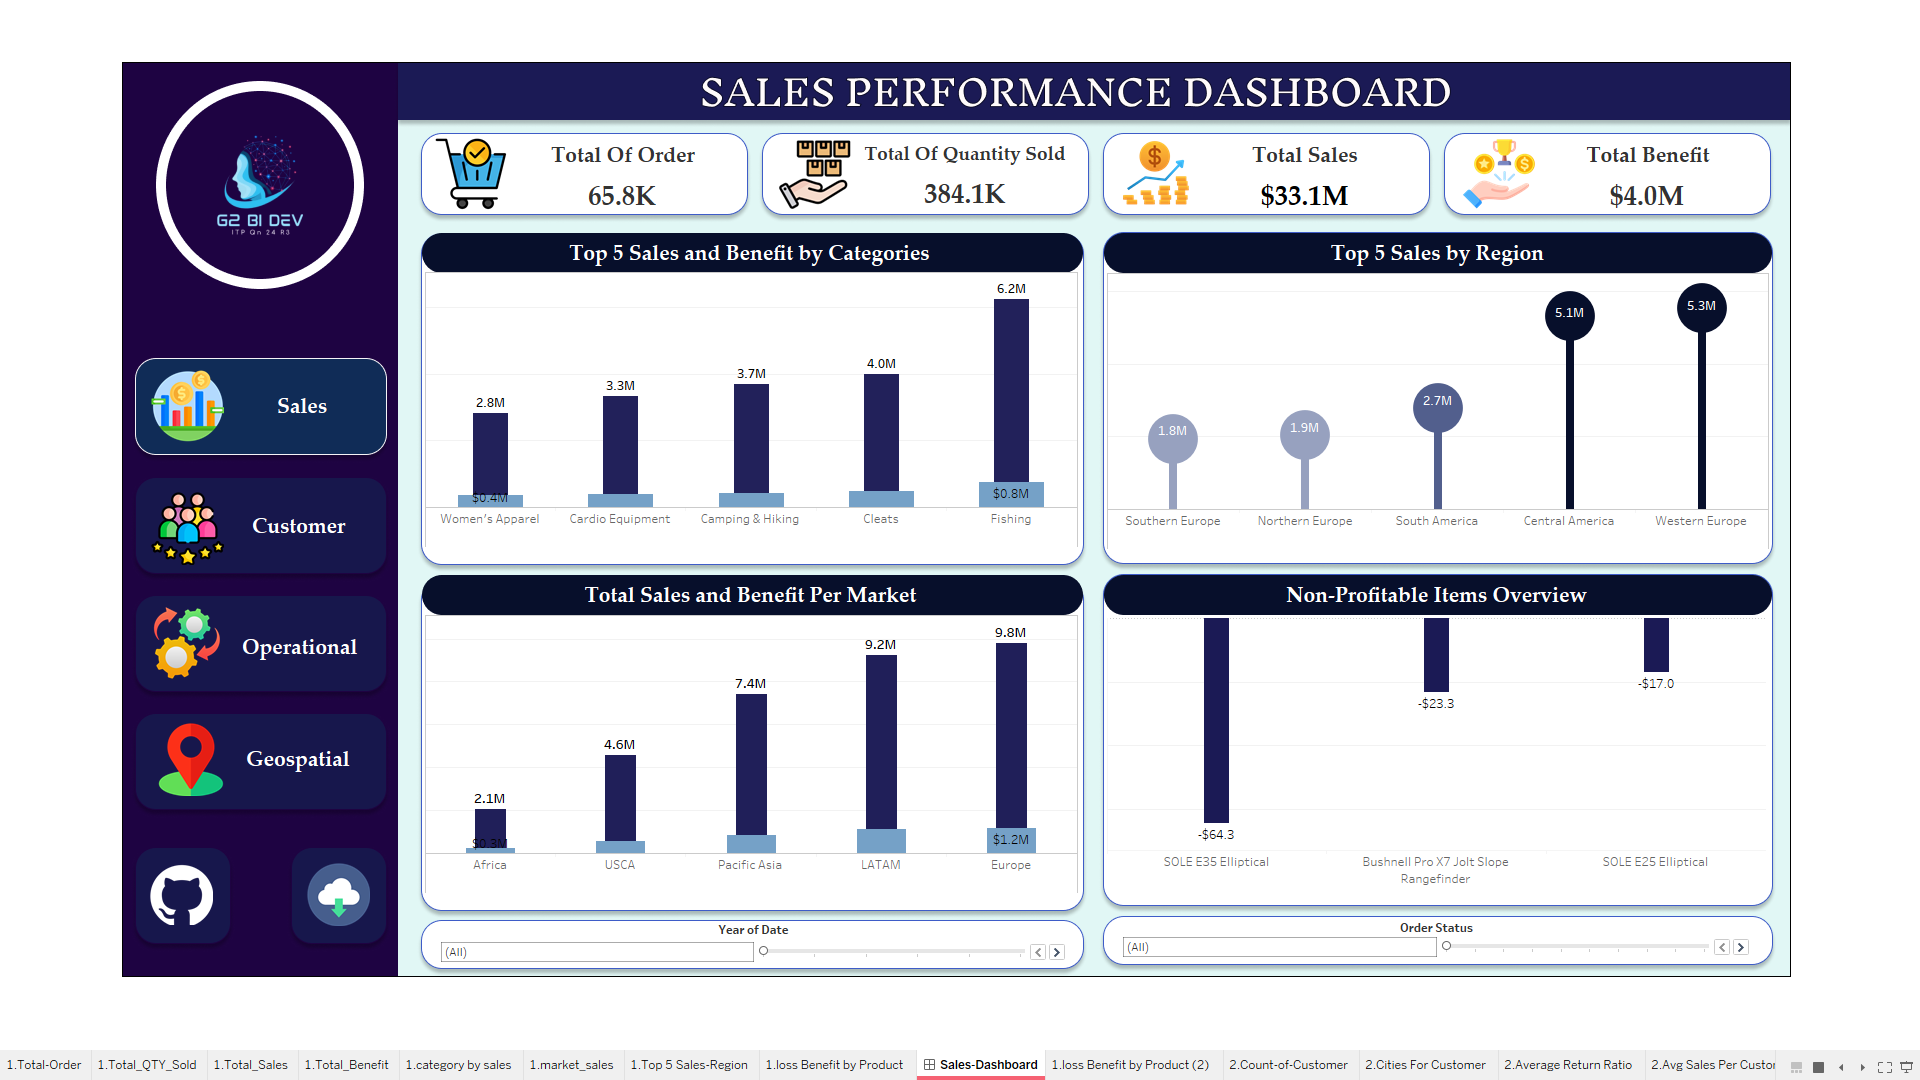

The page's visual inventory and layout, read from the dashboard file:
{"tool":"tableau","page":{"name":"Sales-Dashboard","canvas":[1700,950],"ordinal":4},"visuals":[{"type":"image","param":"C:/Users/mahmo/OneDrive/Desktop/Sales/background/New folder (2)/Sales.png","box":[8,8,1684,934]},{"type":"image","param":"C:/Users/mahmo/OneDrive/Desktop/Sales-project/ICONS/total_order.png","box":[321,86,80,75]},{"type":"worksheet","title":"1.Total-Order","mark":"Automatic","box":[408,86,210,75]},{"type":"worksheet","title":"1.Total_QTY_Sold","mark":"Automatic","box":[750,86,210,75]},{"type":"image","param":"C:/Users/mahmo/OneDrive/Desktop/Sales-project/ICONS/total_sales.png","box":[1006,86,80,75]},{"type":"worksheet","title":"1.Total_Sales","mark":"Automatic","box":[1090,86,210,75]},{"type":"image","param":"C:/Users/mahmo/OneDrive/Desktop/Sales-project/ICONS/total_benefit.png","box":[1349,86,80,75]},{"type":"worksheet","title":"1.Total_Benefit","mark":"Automatic","box":[1433,86,210,75]},{"type":"image","param":"C:/Users/mahmo/OneDrive/Desktop/Sales-project/ICONS/total_QTY.png","box":[665,88,80,73]},{"type":"text","box":[1015,183,625,38]},{"type":"text","box":[325,184,629,36]},{"type":"worksheet","title":"1.category by sales","mark":"Automatic","rows":["Total_Sales","BenifitPerOrder"],"cols":["Category_Name"],"box":[315,222,653,276]},{"type":"worksheet","title":"1.Top 5 Sales-Region","mark":"Automatic","rows":["Total_Sales","Total_Sales"],"cols":["Rejon_Name"],"box":[997,223,662,277]},{"type":"image","param":"C:/Users/mahmo/OneDrive/Desktop/Sales-project/ICONS/sales-dashboard.png","box":[41,308,73,95]},{"type":"dashboard-object","box":[116,320,153,70]},{"type":"image","param":"C:/Users/mahmo/OneDrive/Desktop/Sales-project/ICONS/customer-dashboard.png","box":[41,431,73,95]},{"type":"dashboard-object","box":[113,440,153,70]},{"type":"text","box":[328,525,625,38]},{"type":"text","box":[1015,527,623,34]},{"type":"image","param":"C:/Users/mahmo/OneDrive/Desktop/Sales-project/ICONS/operational-dashboard.png","box":[40,545,73,95]},{"type":"dashboard-object","box":[114,562,153,69]},{"type":"worksheet","title":"1.market_sales","mark":"Automatic","rows":["Total_Sales","BenifitPerOrder"],"cols":["Market_Name"],"box":[315,565,653,279]},{"type":"worksheet","title":"1.loss Benefit by Product","mark":"Line","rows":["Calculation_348466078747049984"],"cols":["Product_Name"],"box":[997,568,659,272]},{"type":"image","param":"C:/Users/mahmo/OneDrive/Desktop/Sales-project/ICONS/geo-dashboard.png","box":[44,662,73,95]},{"type":"dashboard-object","box":[114,674,153,69]},{"type":"image","param":"C:/Users/mahmo/OneDrive/Desktop/Sales-project/ICONS/github-mark-white.png","box":[40,810,63,70]},{"type":"dashboard-object","box":[197,810,63,70]},{"type":"filter","title":"1.Total-Order","param":"[federated.0a7f3eg1xpprtt1e4fdhm1t957b5].[none:Order_Status:nk]","box":[1010,869,633,42]},{"type":"filter","title":"1.Total-Order","param":"[federated.0a7f3eg1xpprtt1e4fdhm1t957b5].[yr:Date:ok]","box":[328,871,631,44]}]}

Visuals, with their boxes on the page's 1700x950 design canvas (x1, y1, x2, y2). These are canvas units, not pixel positions in the 1920x1080 screenshot, which may show the page scaled, cropped or inside an application window:
image: BBox(8, 8, 1692, 942)
image: BBox(321, 86, 401, 161)
"1.Total-Order" worksheet: BBox(408, 86, 618, 161)
"1.Total_QTY_Sold" worksheet: BBox(750, 86, 960, 161)
image: BBox(1006, 86, 1086, 161)
"1.Total_Sales" worksheet: BBox(1090, 86, 1300, 161)
image: BBox(1349, 86, 1429, 161)
"1.Total_Benefit" worksheet: BBox(1433, 86, 1643, 161)
image: BBox(665, 88, 745, 161)
text: BBox(1015, 183, 1640, 221)
text: BBox(325, 184, 954, 220)
"1.category by sales" worksheet: BBox(315, 222, 968, 498)
"1.Top 5 Sales-Region" worksheet: BBox(997, 223, 1659, 500)
image: BBox(41, 308, 114, 403)
dashboard-object: BBox(116, 320, 269, 390)
image: BBox(41, 431, 114, 526)
dashboard-object: BBox(113, 440, 266, 510)
text: BBox(328, 525, 953, 563)
text: BBox(1015, 527, 1638, 561)
image: BBox(40, 545, 113, 640)
dashboard-object: BBox(114, 562, 267, 631)
"1.market_sales" worksheet: BBox(315, 565, 968, 844)
"1.loss Benefit by Product" worksheet (Line marks): BBox(997, 568, 1656, 840)
image: BBox(44, 662, 117, 757)
dashboard-object: BBox(114, 674, 267, 743)
image: BBox(40, 810, 103, 880)
dashboard-object: BBox(197, 810, 260, 880)
"1.Total-Order" filter: BBox(1010, 869, 1643, 911)
"1.Total-Order" filter: BBox(328, 871, 959, 915)
